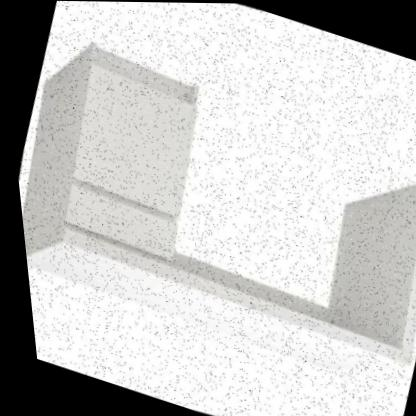Table: (0, 5, 416, 416)
